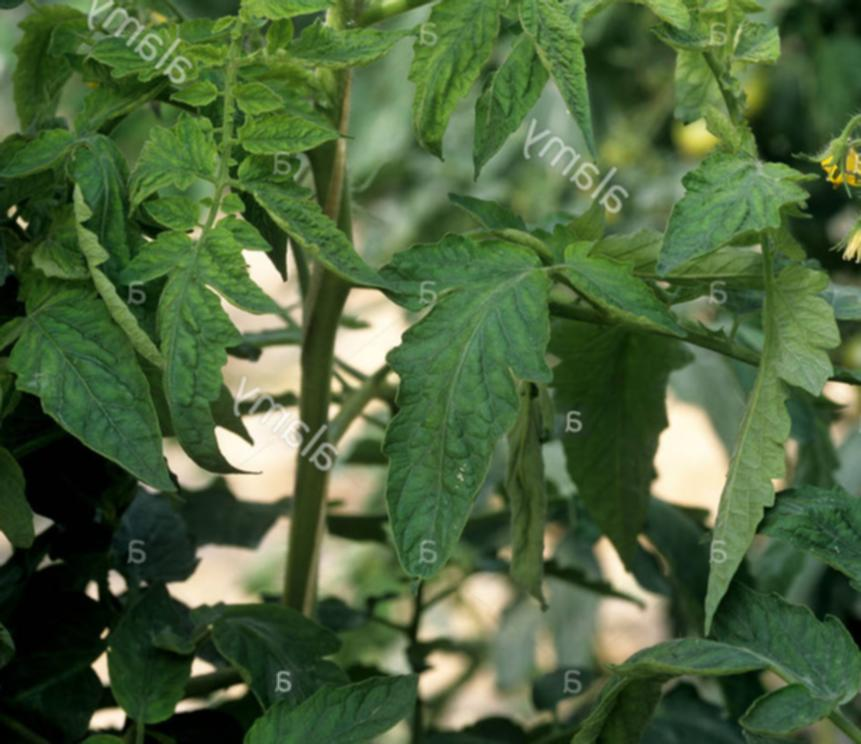Tomato leaf yellow virus: (158, 0, 360, 468), (638, 227, 861, 635), (375, 246, 552, 589), (504, 0, 592, 179)
